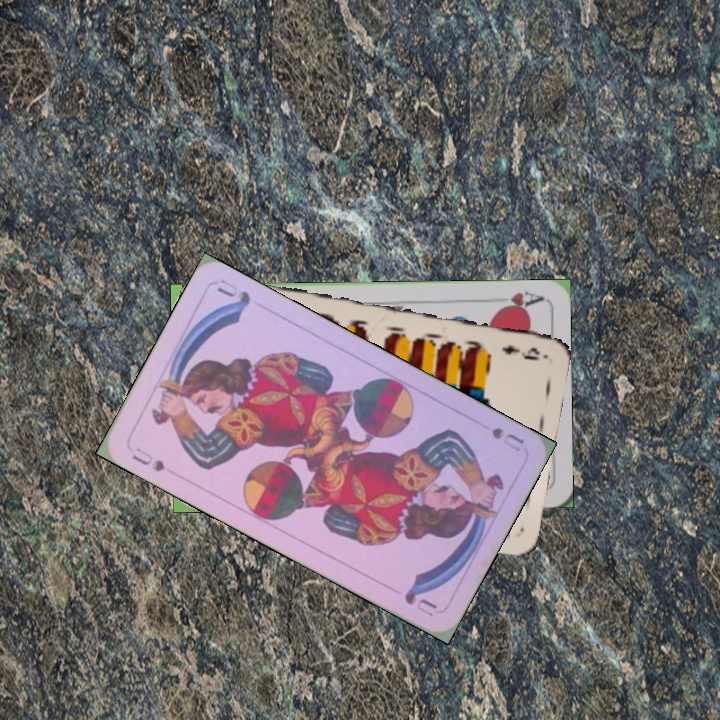E9: (498, 341, 543, 363)
HA: (490, 287, 544, 314)
SU: (487, 423, 527, 454), (128, 443, 168, 474)
